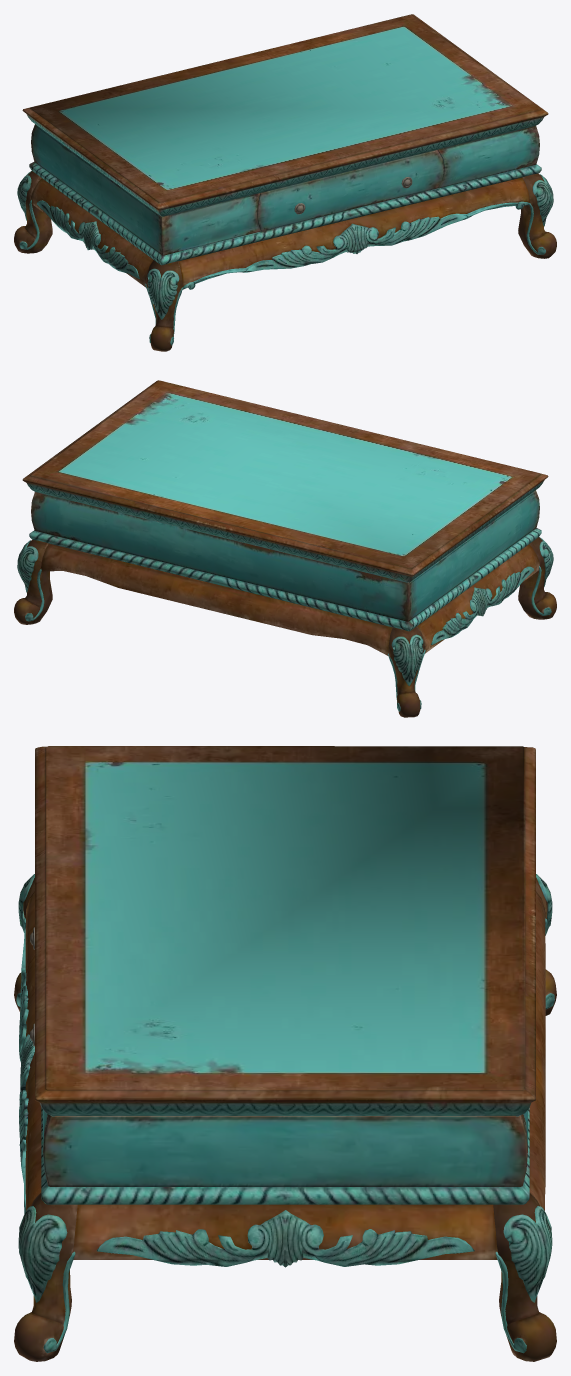
File: prop-coffee-table-01.glb
The picture shows the model from 3 angles, top to bottom: view 1: azimuth 30°, elevation 25°; view 2: azimuth 150°, elevation 25°; view 3: azimuth 270°, elevation 25°; orthographic projection. The views are drawn at different scales.
Visible parts, largest first — view 1: CoffeeTable_01; view 2: CoffeeTable_01; view 3: CoffeeTable_01.
Part boxes in pixels (x1,y1,x2,y2): CoffeeTable_01: [14, 14, 556, 351]; CoffeeTable_01: [14, 380, 556, 717]; CoffeeTable_01: [14, 746, 556, 1361].
Size of the model in its own units: 1.54 by 0.5232 by 0.9728.
1 material, 1 textured.
